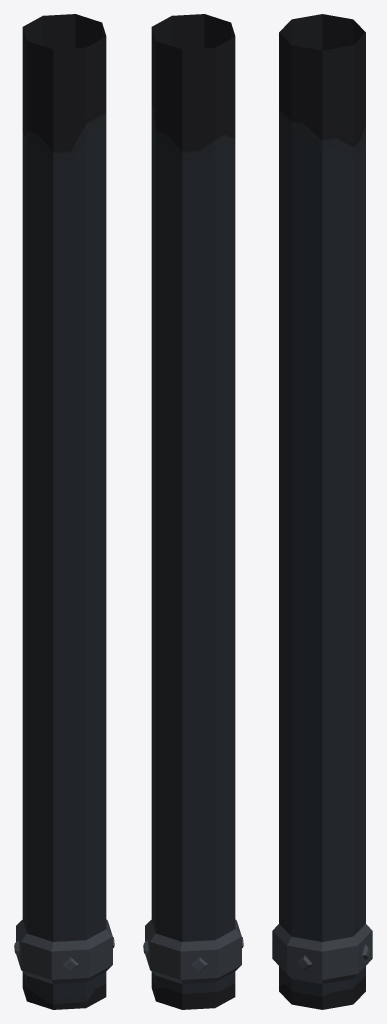
The model's file is SM_Stove_Pipe_C.fbx.
3 views of the same model, side by side, from view 1: azimuth 30°, elevation 25°; view 2: azimuth 210°, elevation 25°; view 3: azimuth 270°, elevation 25° (orthographic).
Visible parts, largest first — view 1: SM_Stove_Pipe_C; view 2: SM_Stove_Pipe_C; view 3: SM_Stove_Pipe_C.
Boxes of the visible parts, bbox=[...] form: SM_Stove_Pipe_C: bbox=[14, 14, 114, 1009]; SM_Stove_Pipe_C: bbox=[143, 14, 243, 1009]; SM_Stove_Pipe_C: bbox=[272, 14, 372, 1009].
Bounding box in the file's own units: 28.35 × 300 × 28.35.
